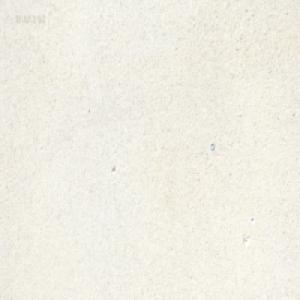Washer: (209, 141, 214, 151)
